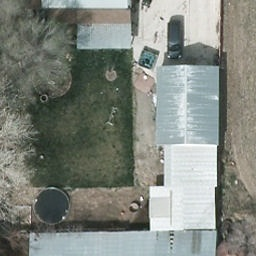car: (167, 19, 185, 62)
